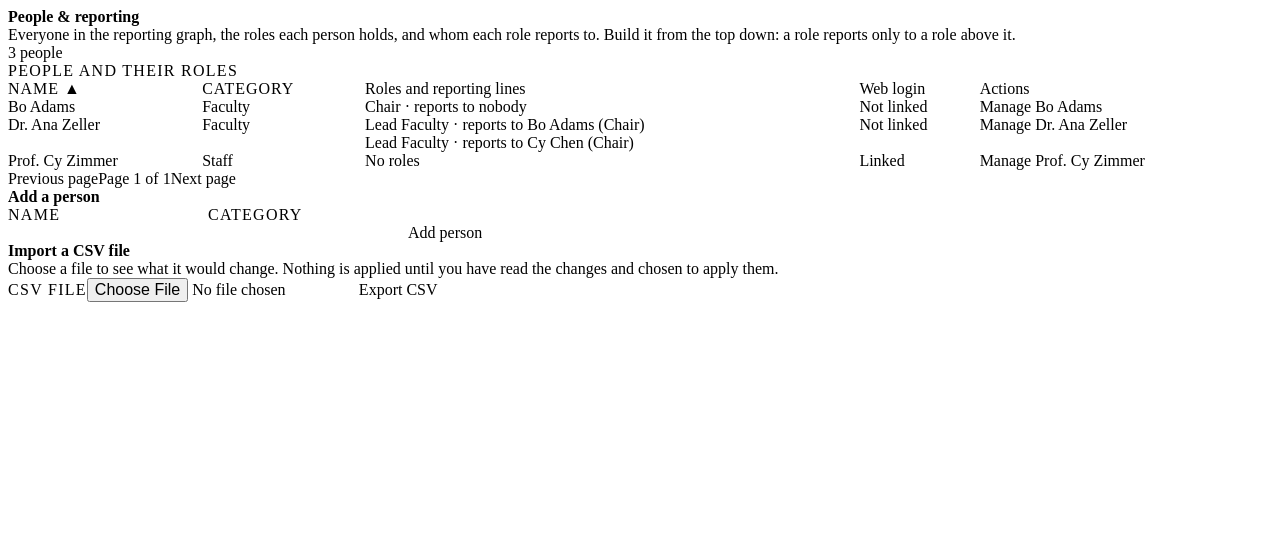
Test case: the person panel › grants the chosen role at the chosen node and echoes the CSRF cookie
Click the button "Manage Bo Adams" at (1041, 107), box x1=980 y1=98 x2=1102 y2=116
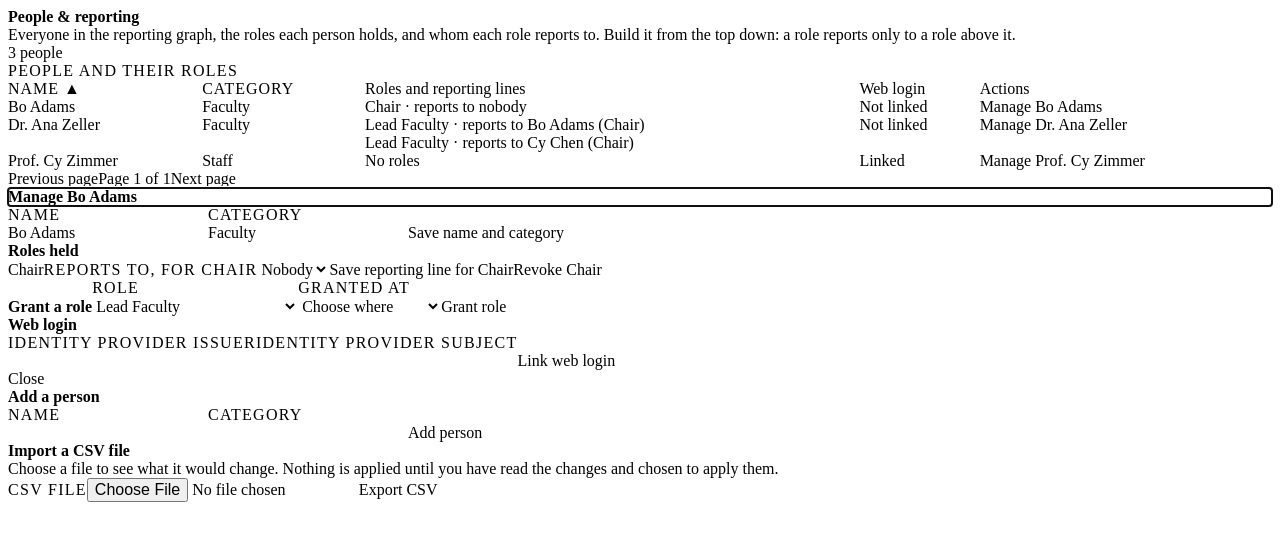
Select "Care" in the dropdown labelled "Role" at (195, 306), box x1=92 y1=297 x2=298 y2=316
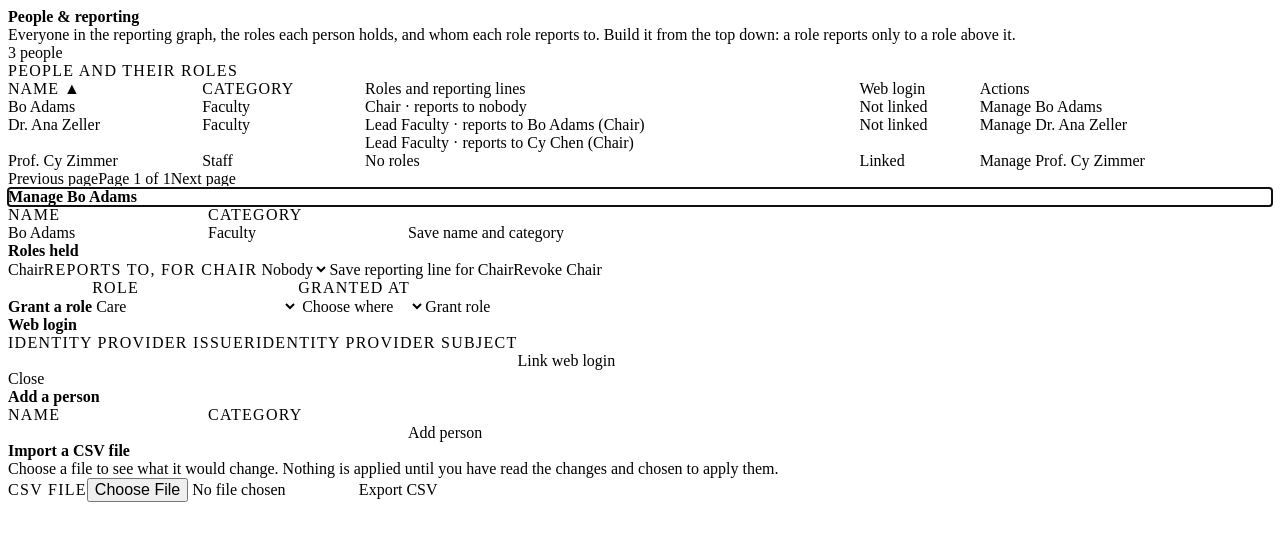
Select "Pulse University" in the dropdown labelled "Granted at" at (362, 306), box x1=298 y1=297 x2=425 y2=316
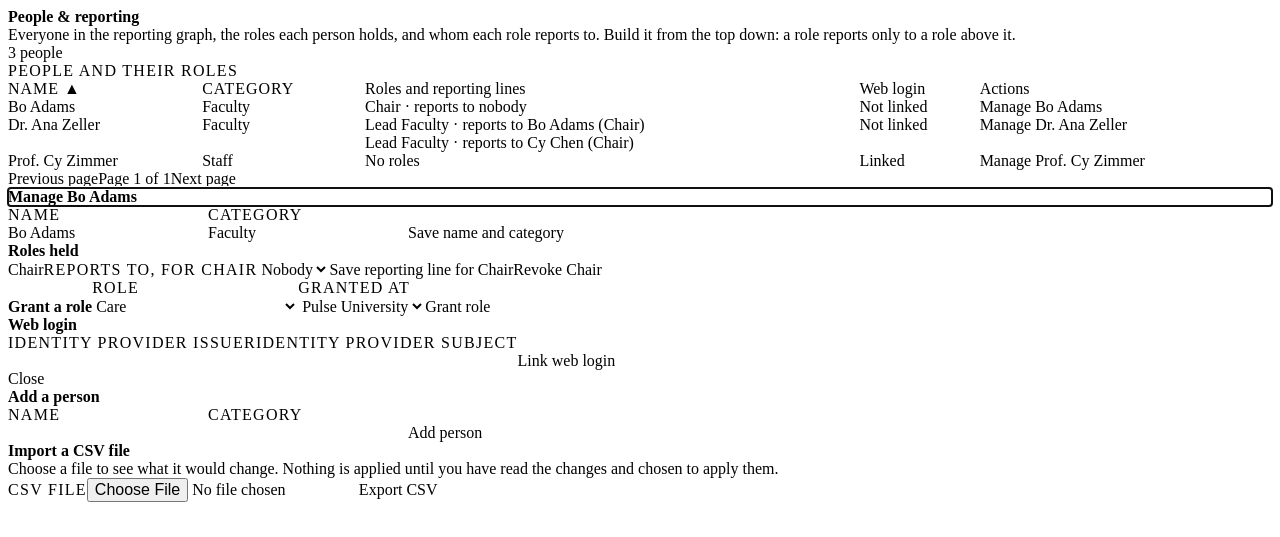
Click the button "Grant role" at (458, 307), box x1=425 y1=298 x2=490 y2=316
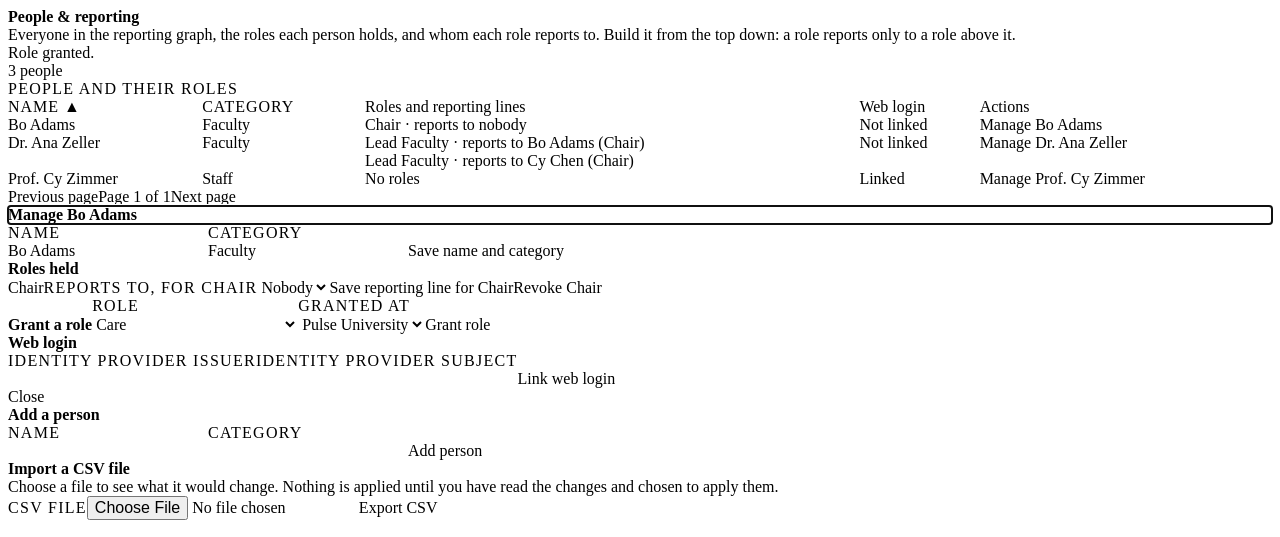
Check: the message reads "Role granted.", box x1=8 y1=44 x2=94 y2=61
